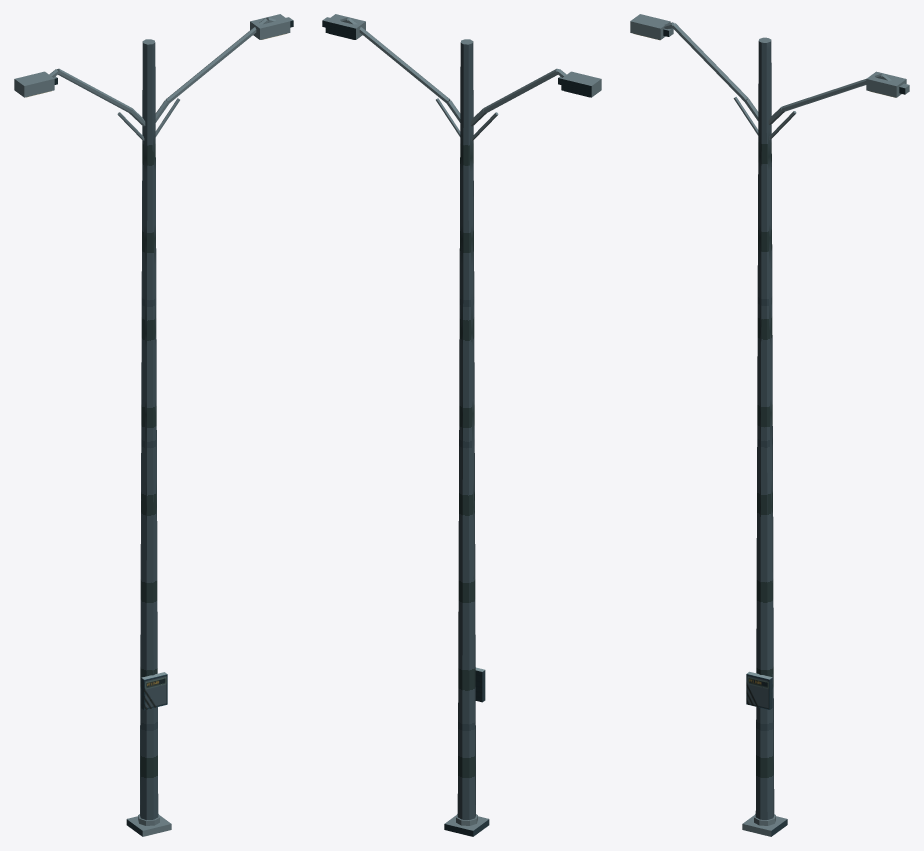
File: poste_luz_doble_brazo.glb
3 views of the same model, side by side, from view 1: azimuth 30°, elevation 25°; view 2: azimuth 150°, elevation 25°; view 3: azimuth 330°, elevation 25° (orthographic).
Visible parts, largest first — view 1: FH_PROP; view 2: FH_PROP; view 3: FH_PROP.
Boxes of the visible parts, box(x1,y1,x2,y2) form: FH_PROP: box(14, 14, 293, 836); FH_PROP: box(322, 14, 601, 836); FH_PROP: box(630, 14, 909, 836).
Bounding box in the file's own units: 2.7 × 7.47 × 0.2804.
Materials: 1 (1 with a texture image).
